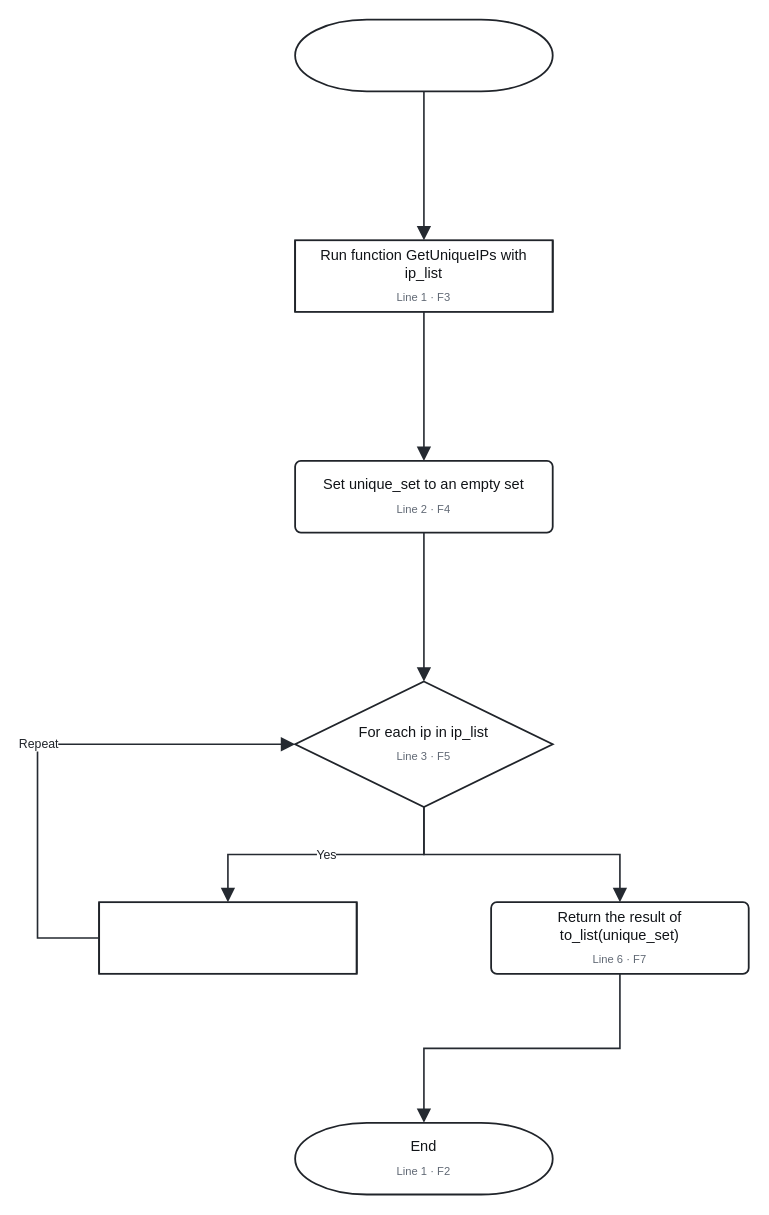
The diagram is 769 pixels wide and 1215 high, and some of its shapes have lost their labels. The shapes that lost their labels are listed below. From the top down, each one's centre as x and y in pixels, then its label:
point (423, 55): Start Line 1 · F1
point (227, 937): Call add_to_set with unique_set, ip Line 4 · F6
